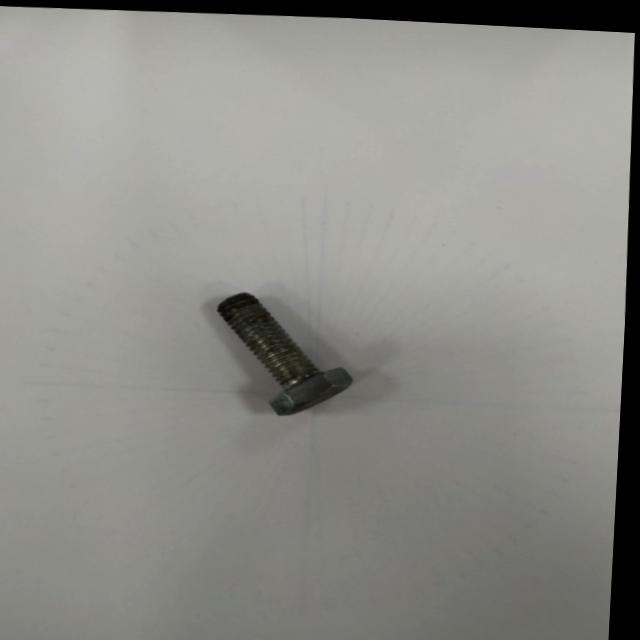Bolt: (221, 289, 356, 411)
